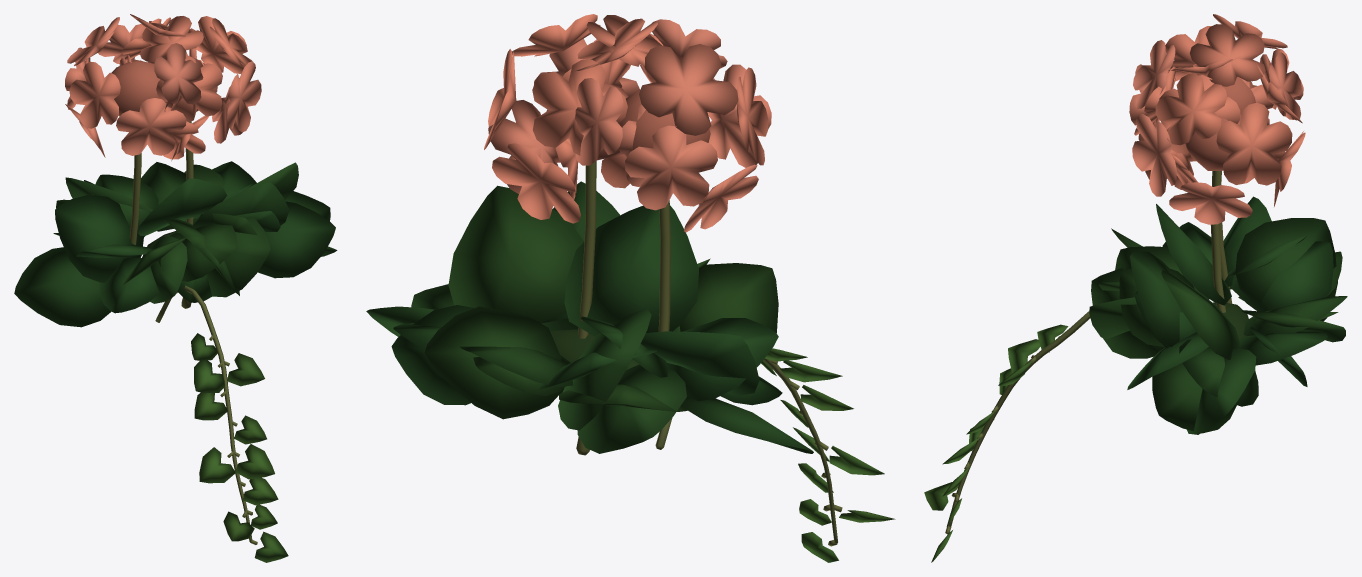
The model's file is box_geranium_coral.glb.
The picture shows the model from 3 angles, left to right: view 1: azimuth 30°, elevation 25°; view 2: azimuth 150°, elevation 25°; view 3: azimuth 270°, elevation 25°; orthographic projection. The views are drawn at different scales.
Visible parts, largest first — view 1: Sammel Pflanze, Sammel Putz; view 2: Sammel Pflanze, Sammel Putz, Sammel Blatt; view 3: Sammel Pflanze, Sammel Putz, Sammel Blatt.
Boxes of the visible parts, x1,y1,x2,y2 form: Sammel Pflanze: (14, 14, 337, 562); Sammel Putz: (129, 121, 257, 544); Sammel Pflanze: (366, 14, 895, 562); Sammel Putz: (576, 161, 842, 546); Sammel Blatt: (550, 329, 638, 393); Sammel Pflanze: (924, 14, 1347, 562); Sammel Putz: (945, 171, 1232, 534); Sammel Blatt: (1213, 302, 1248, 340).
Size of the model in its own units: 0.4092 by 0.5746 by 0.4159.
